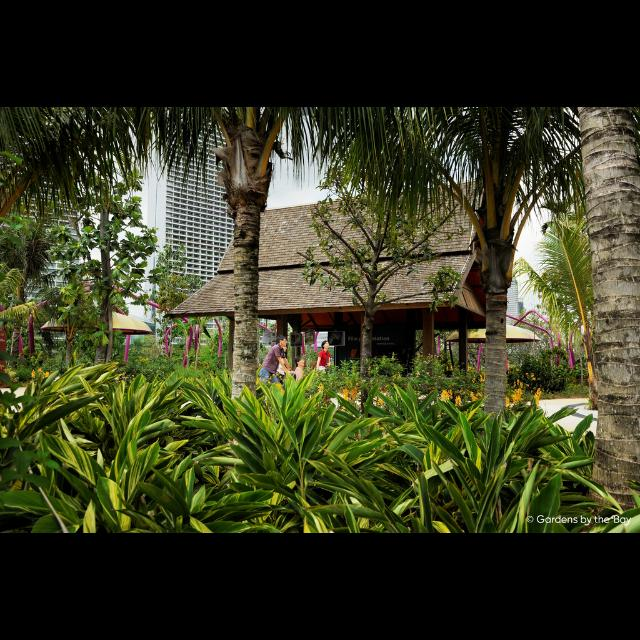Flower: (338, 387, 352, 405), (512, 389, 526, 407), (268, 384, 286, 396), (378, 391, 390, 407), (441, 389, 451, 406), (454, 393, 466, 407), (351, 380, 357, 404), (467, 390, 478, 402), (30, 368, 38, 384), (502, 400, 514, 408), (44, 373, 52, 379), (450, 389, 454, 399), (37, 368, 43, 374)
